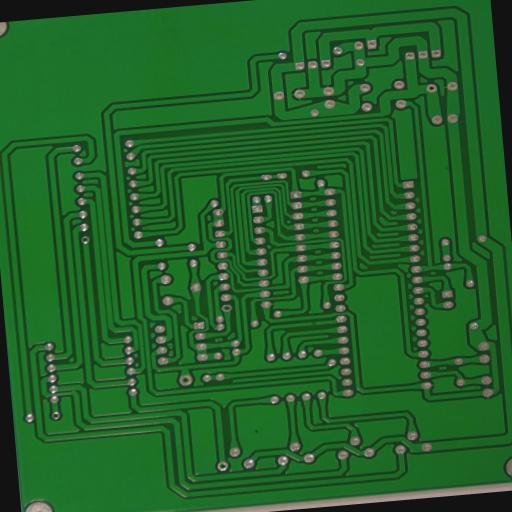missing_hole: (178, 372, 194, 386), (216, 458, 230, 472), (220, 301, 234, 312), (426, 82, 438, 93), (80, 234, 92, 245), (50, 410, 62, 420)
